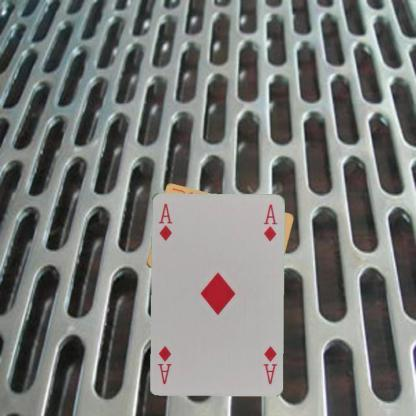Ad: (260, 343, 278, 385), (156, 199, 173, 242)
